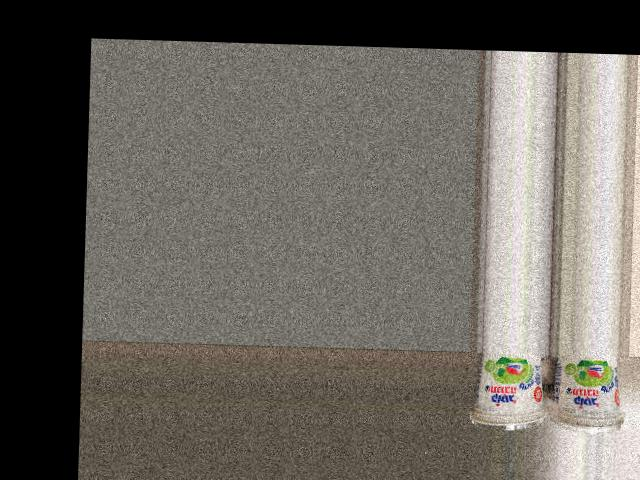cotage: (475, 351, 549, 429)
